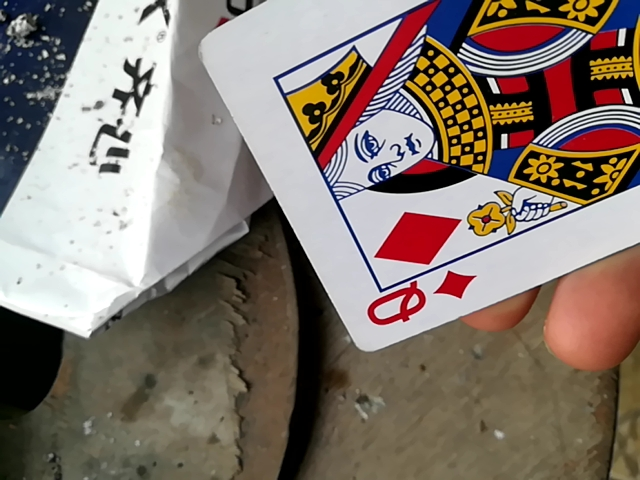fk q: (178, 1, 638, 346)
